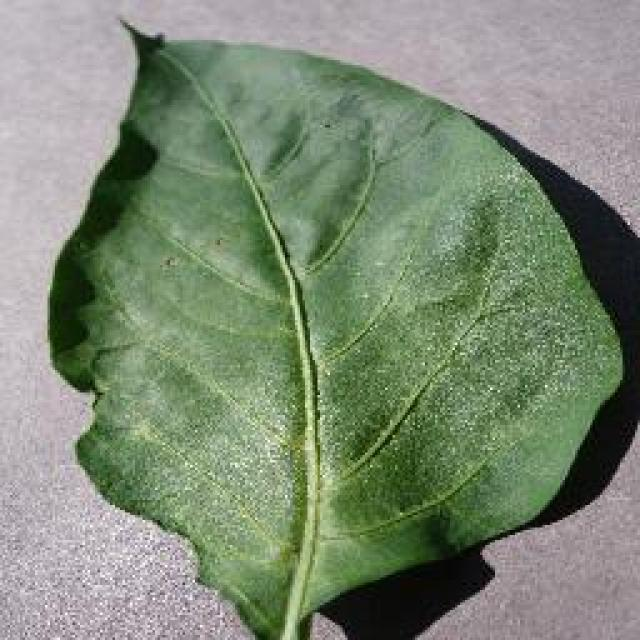Chilli_Healthy: (45, 15, 625, 637)
